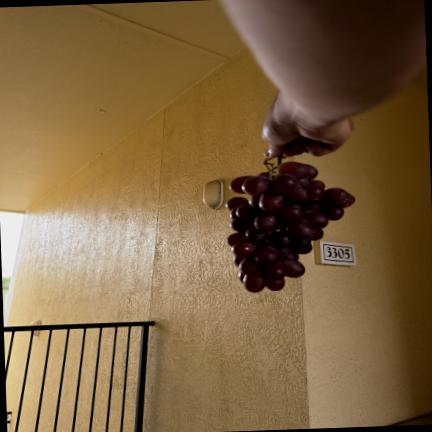grape_cluster: (226, 157, 355, 292)
